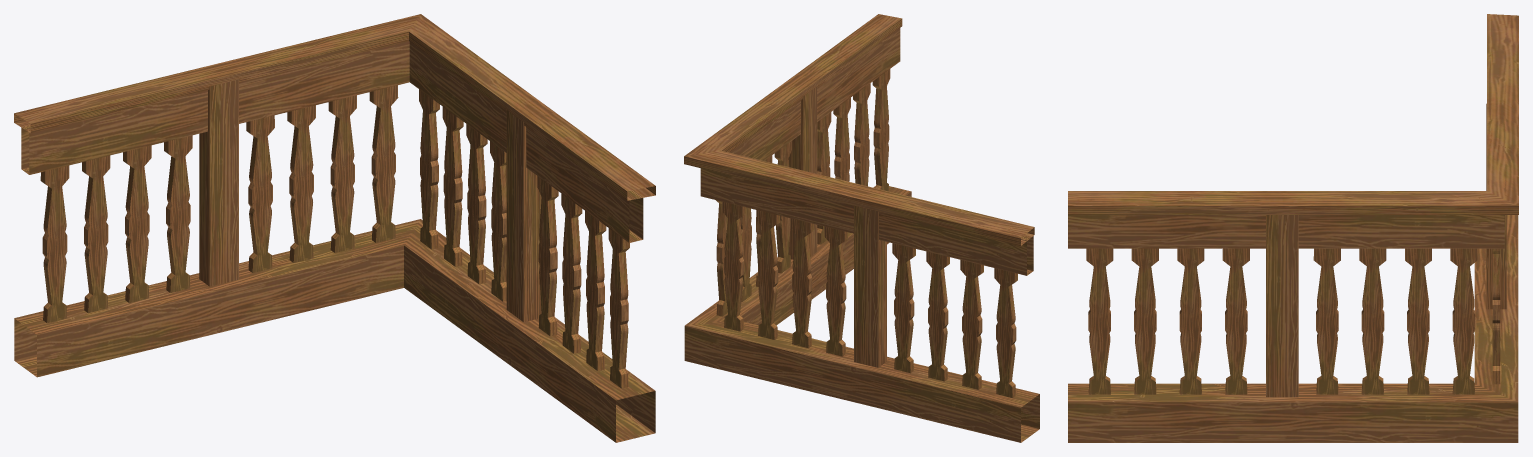
File: Balcony_Simple_Corner.glb
3 renders of one model, left to right at view 1: azimuth 30°, elevation 25°; view 2: azimuth 150°, elevation 25°; view 3: azimuth 270°, elevation 25°, orthographic. The views are drawn at different scales.
Parts seen in each view (by area): view 1: Balcony_Simple_Corner; view 2: Balcony_Simple_Corner; view 3: Balcony_Simple_Corner.
Part boxes in pixels (x1,y1,x2,y2): Balcony_Simple_Corner: (14,14,655,442); Balcony_Simple_Corner: (684,14,1039,442); Balcony_Simple_Corner: (1068,14,1518,442).
Bounding box in the file's own units: 2.1 × 1.23 × 2.1.
1 material, 1 textured.
